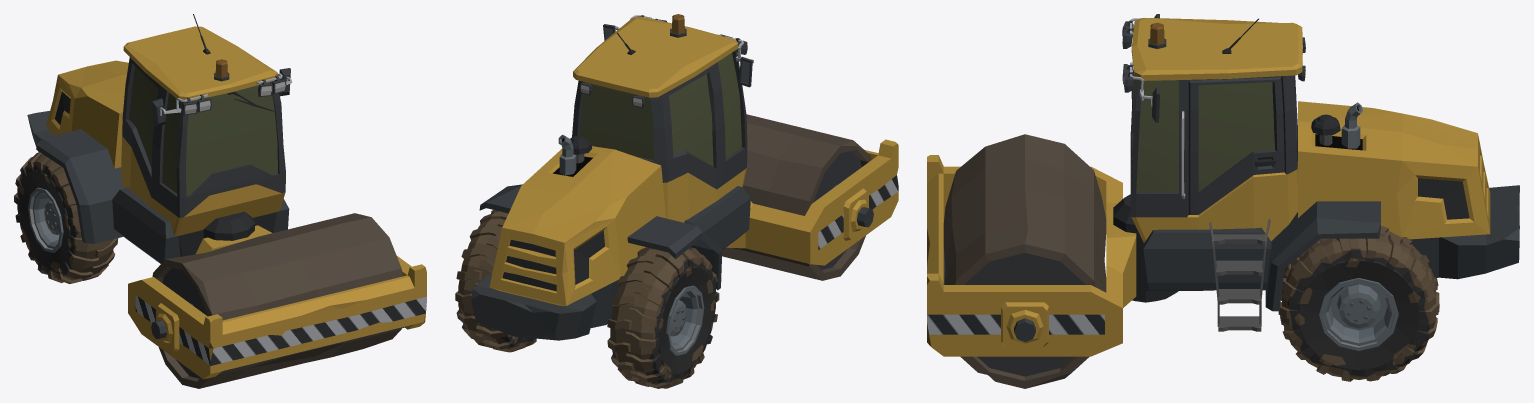
The model's file is SM_Veh_Roller_01.fbx.
The picture shows the model from 3 angles, left to right: view 1: azimuth 30°, elevation 25°; view 2: azimuth 150°, elevation 25°; view 3: azimuth 270°, elevation 25°; orthographic projection. The views are drawn at different scales.
Parts seen in each view (by area): view 1: SM_Veh_Roller_01, SM_Veh_Roller_01_Roller, SM_Veh_Roller_01_Front, SM_Veh_Roller_01_Glass, SM_Veh_Roller_01_Wheel_rr; view 2: SM_Veh_Roller_01, SM_Veh_Roller_01_Wheel_rr, SM_Veh_Roller_01_Roller, SM_Veh_Roller_01_Front, SM_Veh_Roller_01_Glass, SM_Veh_Roller_01_Wheel_rl; view 3: SM_Veh_Roller_01, SM_Veh_Roller_01_Roller, SM_Veh_Roller_01_Front, SM_Veh_Roller_01_Wheel_rl, SM_Veh_Roller_01_Glass.
Part boxes in pixels (x1,y1,x2,y2): SM_Veh_Roller_01: (27, 14, 292, 263); SM_Veh_Roller_01_Roller: (152, 213, 402, 388); SM_Veh_Roller_01_Front: (128, 211, 426, 379); SM_Veh_Roller_01_Glass: (129, 66, 277, 195); SM_Veh_Roller_01_Wheel_rr: (14, 152, 118, 283); SM_Veh_Roller_01: (471, 14, 753, 340); SM_Veh_Roller_01_Wheel_rr: (607, 247, 719, 388); SM_Veh_Roller_01_Roller: (722, 114, 871, 280); SM_Veh_Roller_01_Front: (726, 139, 898, 265); SM_Veh_Roller_01_Glass: (580, 53, 741, 166); SM_Veh_Roller_01_Wheel_rl: (455, 210, 536, 352); SM_Veh_Roller_01: (1122, 14, 1519, 331); SM_Veh_Roller_01_Roller: (943, 134, 1106, 388); SM_Veh_Roller_01_Front: (927, 155, 1178, 356); SM_Veh_Roller_01_Wheel_rl: (1278, 226, 1439, 381); SM_Veh_Roller_01_Glass: (1135, 79, 1274, 192).
Size of the model in its own units: 366 by 392 by 649.
